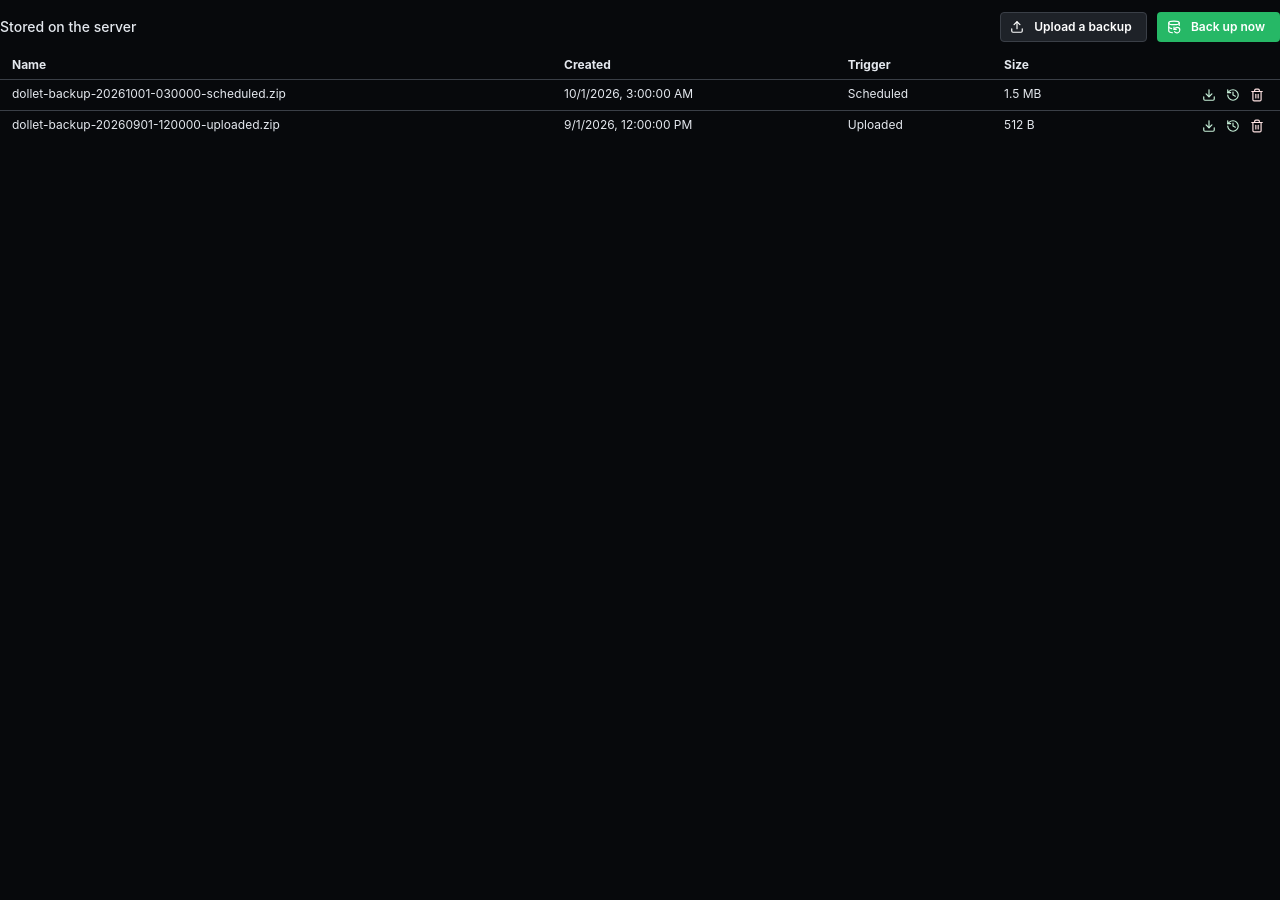
Scenario: deleting › asks first, then deletes and lists what is left
The width and height of the screenshot is (1280, 900).
Expected: the cell "dollet-backup-20261001-030000-scheduled.zip" is shown, left=0, top=79, right=552, bottom=110
Click the button named "Delete dollet-backup-20261001-030000-scheduled.zip".
click(1257, 95)  # box left=1246, top=84, right=1268, bottom=106
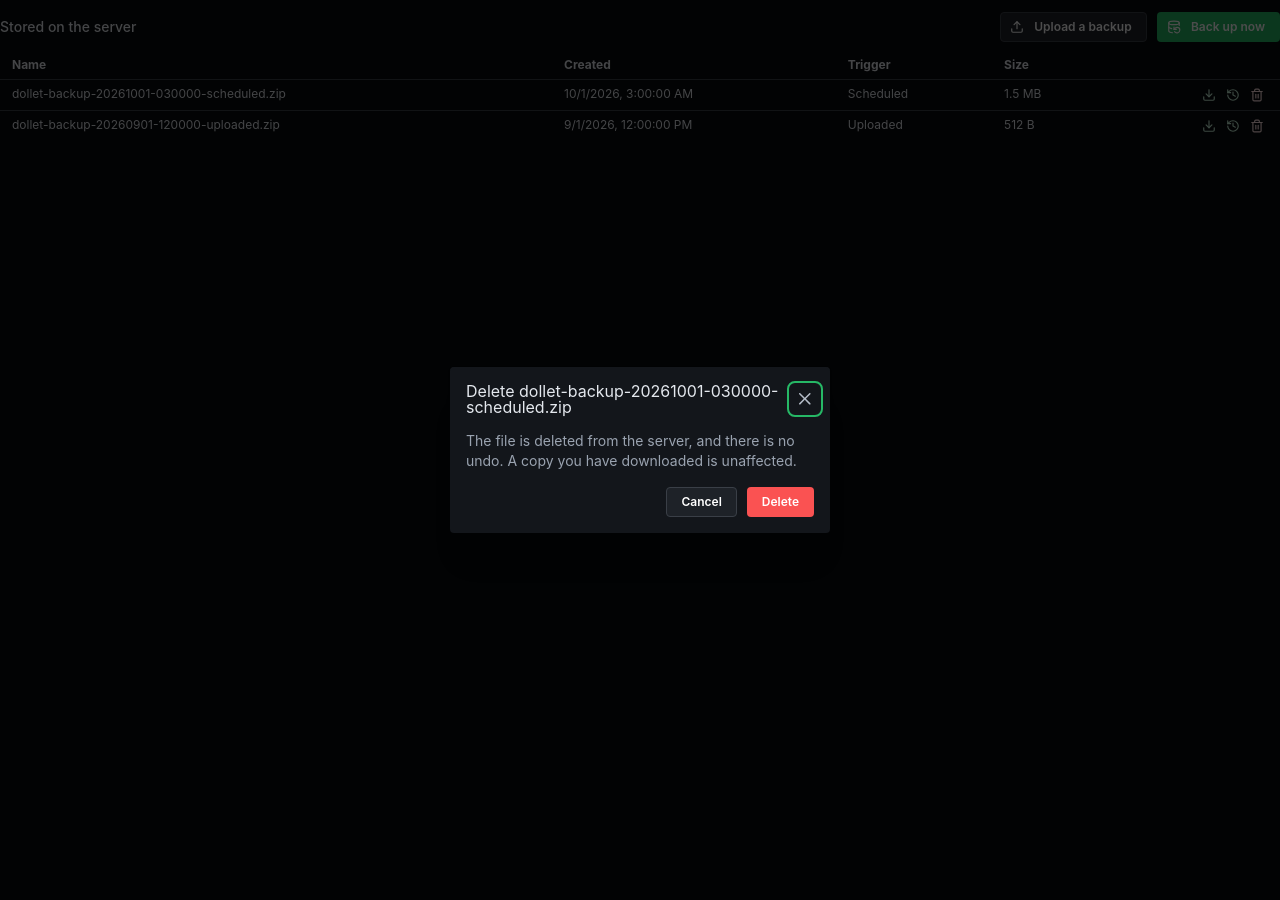
Expected: the text "there is no undo" is shown, left=466, top=432, right=797, bottom=469
Click the button "Delete".
click(780, 502)  # box left=747, top=487, right=814, bottom=517
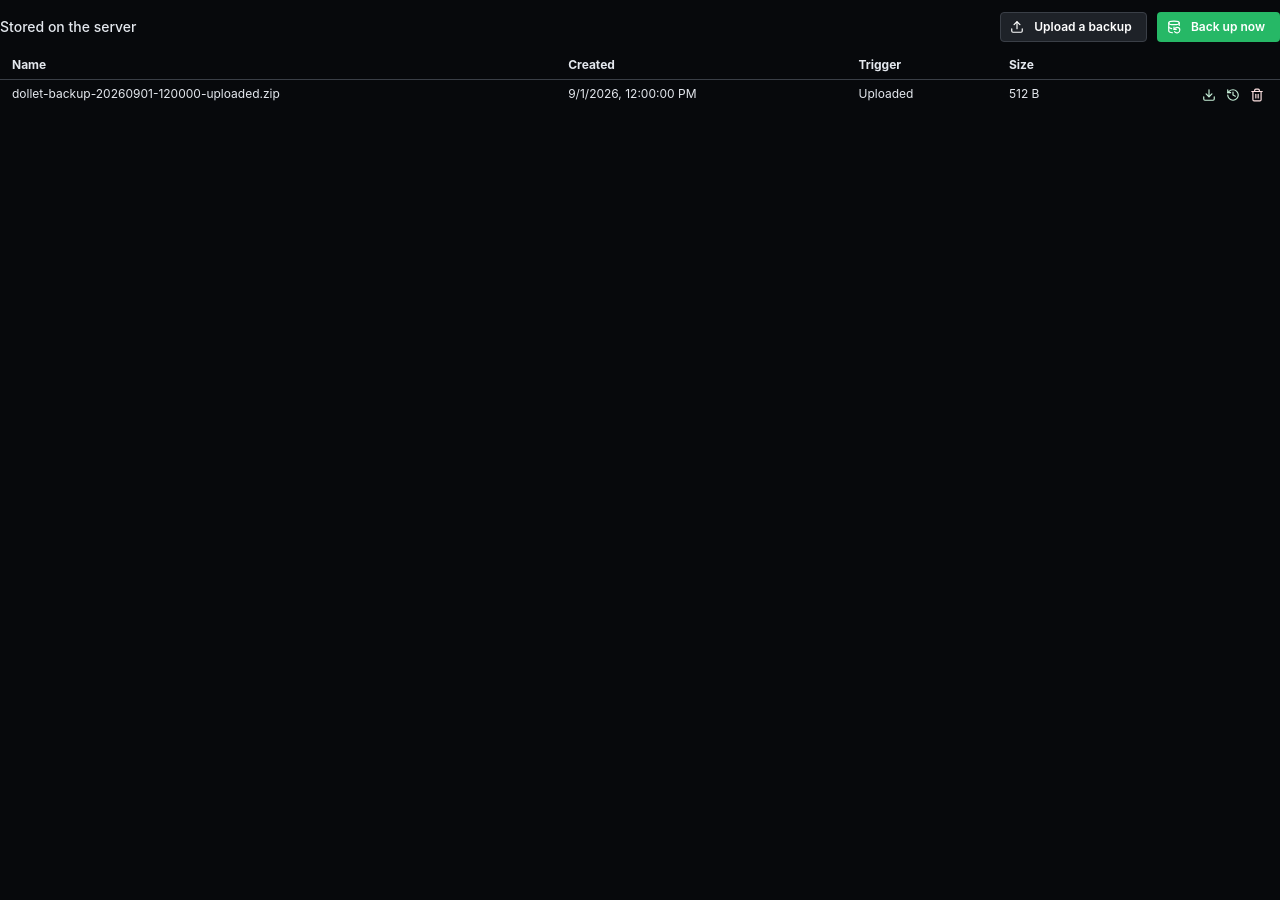
Expected: the cell "dollet-backup-20261001-030000-scheduled.zip" is gone
